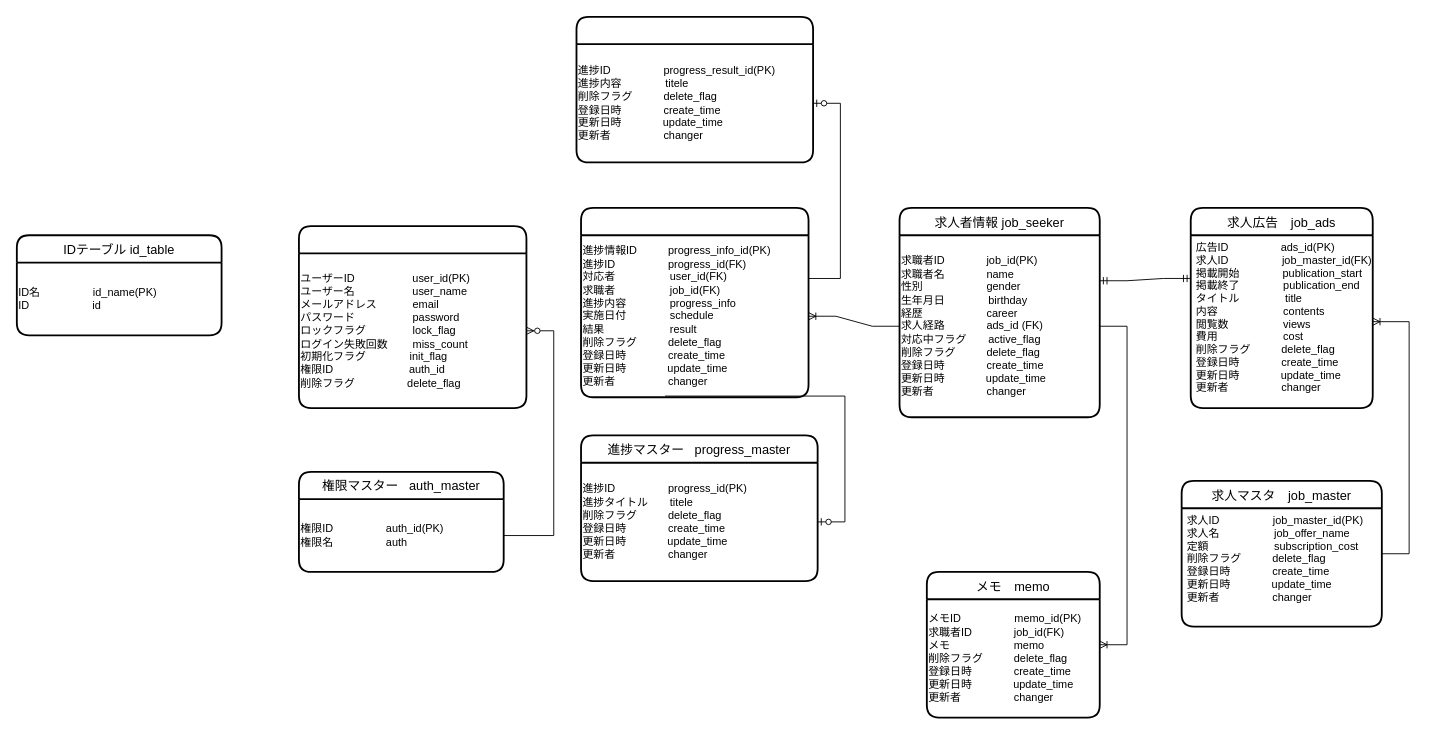
Some shapes in this 1432 by 733 pixel diagram are drawn without their labels. The shapes that lost their labels are listed below. From the top down, each one's box as (x1, y1, x2, y2) in pixels, then its label:
(575, 15, 814, 163): 進捗結果マスター progress_result
(298, 225, 527, 409): ユーザーマスタ user_master
(580, 207, 809, 398): 進捗情報 progress_info
